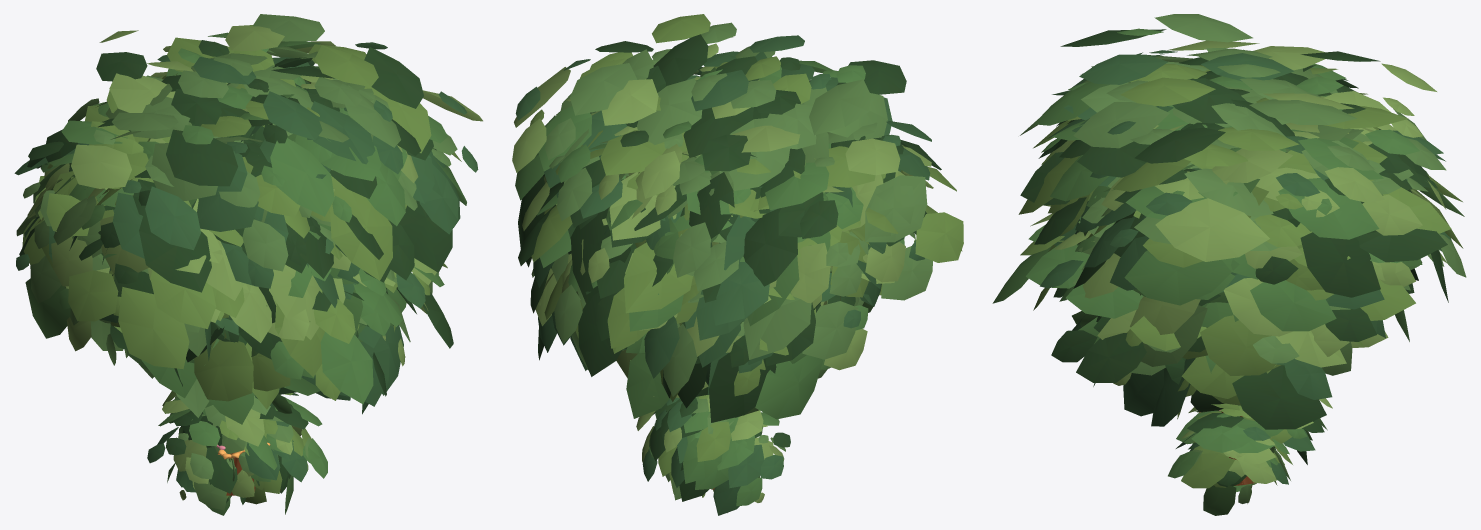
File: Grove.glb
3 renders of one model, left to right at view 1: azimuth 30°, elevation 25°; view 2: azimuth 150°, elevation 25°; view 3: azimuth 270°, elevation 25°, orthographic. The views are drawn at different scales.
Parts seen in each view (by area): view 1: Tree2, Tree1, Tree0, Shrub; view 2: Tree2, Tree1, Tree0, Shrub; view 3: Tree0, Tree2, Tree1, Shrub.
Part boxes in pixels (<box>): Tree2: <box>14,14,444,469</box>; Tree1: <box>40,30,457,414</box>; Tree0: <box>44,42,482,495</box>; Shrub: <box>147,391,327,515</box>; Tree2: <box>512,34,963,422</box>; Tree1: <box>522,14,941,408</box>; Tree0: <box>514,41,904,489</box>; Shrub: <box>636,395,790,515</box>; Tree0: <box>1018,46,1447,485</box>; Tree2: <box>992,40,1466,362</box>; Tree1: <box>1050,14,1446,416</box>; Shrub: <box>1168,398,1332,515</box>.
Size of the model in its own units: 5.74 by 5.95 by 5.72.
7 materials, 1 textured.
